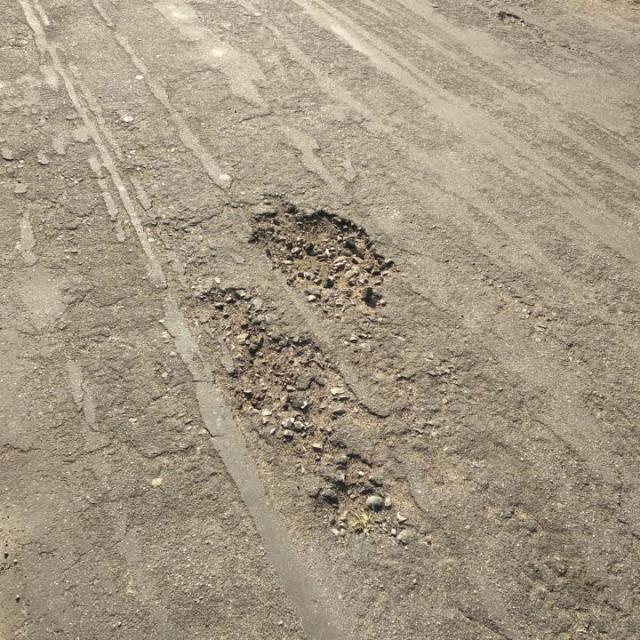pothole: (195, 286, 406, 540), (248, 190, 396, 316)
